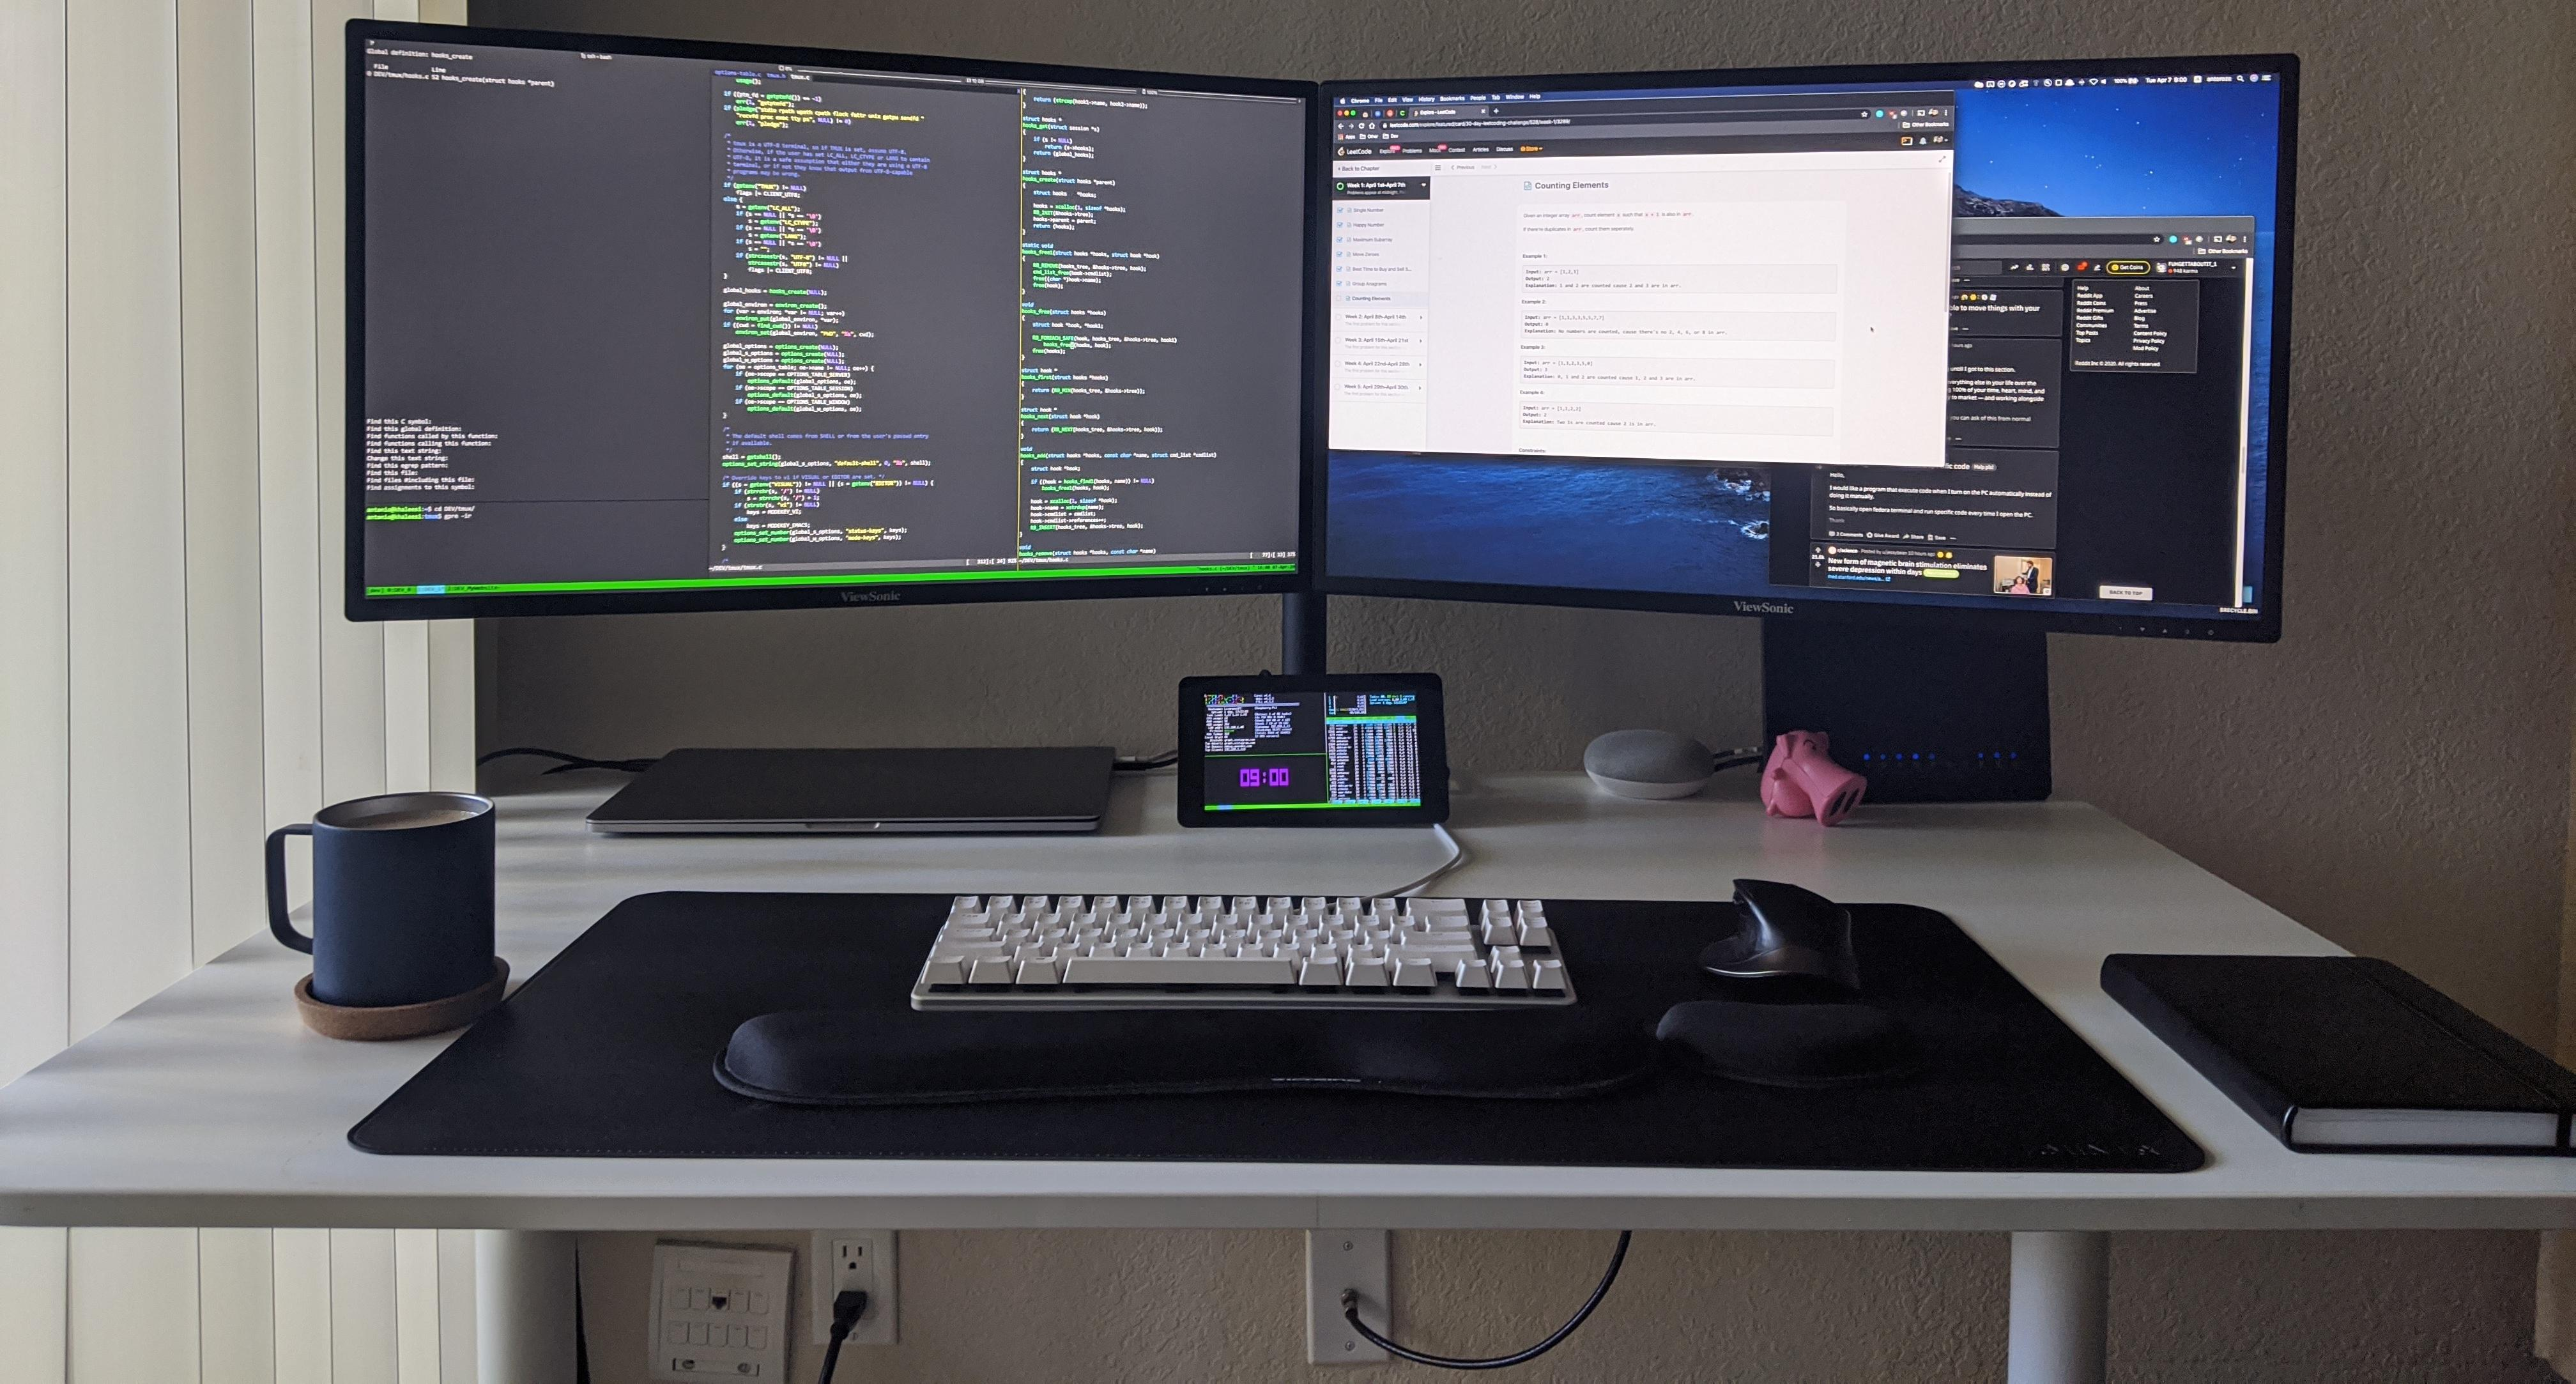Desk (Generic): (0, 745, 2566, 1384)
Drink Coaster: (273, 965, 513, 1047)
IoT Devices (Raspberry, Arduino, etc): (1576, 714, 1728, 813)
Keyboard (Generic): (915, 891, 1588, 1016)
Laptop (OSX): (579, 735, 1128, 845)
Monitor (Landscape): (334, 9, 1317, 620), (1322, 44, 2300, 649)
Mouse (Ergonomic): (1690, 868, 1864, 1006)
Mousepad (Generic): (361, 886, 2215, 1178)
Mug: (266, 781, 499, 992)
Notebook: (2094, 937, 2576, 1157)
Router: (1765, 612, 2050, 803)
Tablet (Generic): (1169, 663, 1453, 835)
